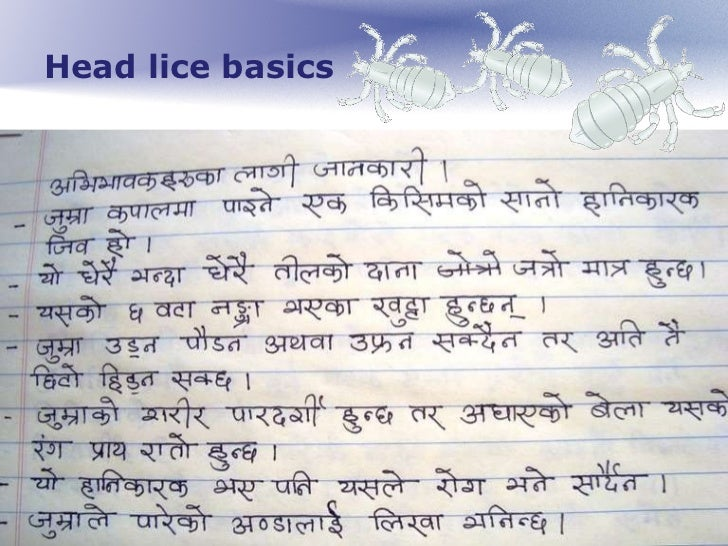text: (47, 167, 227, 195), (311, 145, 428, 184), (231, 501, 347, 540), (580, 181, 701, 218), (459, 390, 573, 428), (370, 179, 489, 214), (78, 468, 191, 501), (223, 394, 324, 430), (28, 502, 120, 540), (433, 322, 524, 355), (462, 503, 551, 536), (438, 290, 525, 323), (128, 502, 212, 536), (571, 460, 649, 495), (35, 396, 120, 428), (272, 252, 354, 284), (366, 507, 445, 540), (231, 154, 299, 190), (36, 294, 107, 327), (106, 199, 199, 224), (336, 468, 411, 499), (369, 291, 431, 328), (142, 397, 210, 430), (499, 178, 562, 213), (662, 387, 728, 420), (137, 432, 197, 467), (180, 325, 247, 356), (281, 295, 360, 321), (584, 391, 651, 421), (98, 362, 157, 395), (335, 401, 394, 434), (202, 252, 256, 287), (209, 296, 266, 329), (204, 438, 259, 472), (512, 248, 574, 278), (636, 257, 696, 288), (220, 188, 281, 218), (170, 367, 234, 395), (262, 331, 335, 355), (30, 362, 86, 393), (347, 329, 416, 354), (433, 467, 487, 498), (362, 259, 424, 285), (75, 255, 121, 289), (41, 206, 94, 235), (595, 320, 648, 349), (126, 264, 190, 288), (213, 474, 265, 502), (101, 334, 159, 359), (503, 465, 553, 494), (580, 255, 633, 281), (35, 335, 83, 363), (299, 192, 348, 219), (28, 434, 73, 463), (43, 233, 94, 258), (273, 470, 317, 498), (406, 401, 444, 431), (88, 438, 130, 464), (151, 299, 197, 322), (540, 331, 581, 355), (30, 466, 65, 493), (103, 228, 135, 257), (38, 261, 65, 289), (125, 301, 146, 324)
